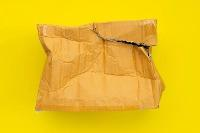damaged package: (97, 32, 154, 62)
undamaged: (30, 16, 162, 113)
